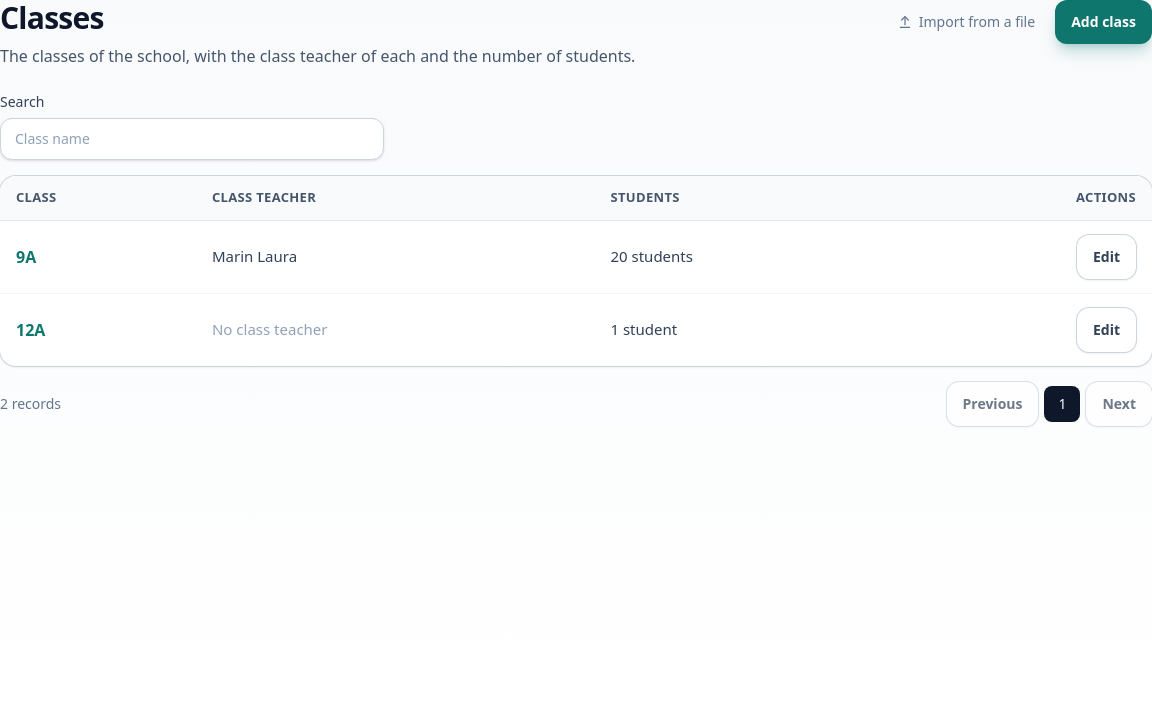
AdminClassesPage › deletes a class after confirmation and says what happens to its students
This screenshot has width=1152, height=720.
Click the button "Edit" in the row of "9A". click: (1106, 256)
box: left=1077, top=234, right=1136, bottom=278
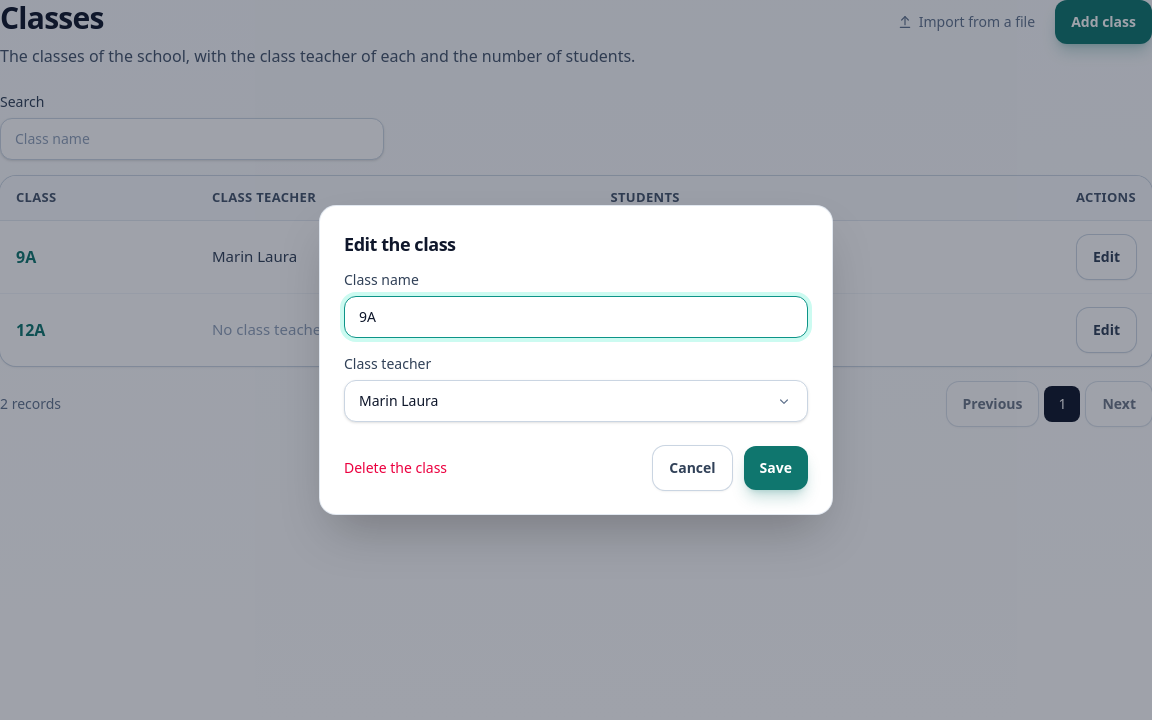
Click the button "Delete the class". click: (396, 468)
box: left=344, top=458, right=447, bottom=478
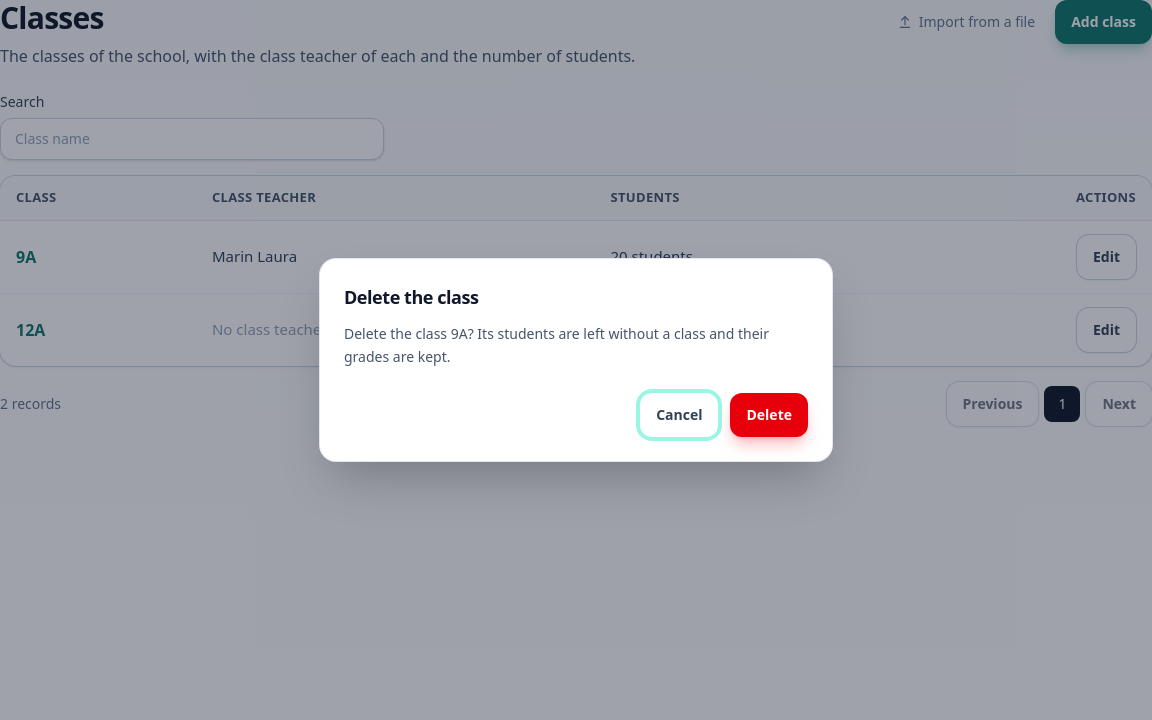
Now the text "left without a class" is shown, box left=344, top=324, right=769, bottom=366
Click the button "Delete". click: (769, 415)
box: left=730, top=393, right=808, bottom=437
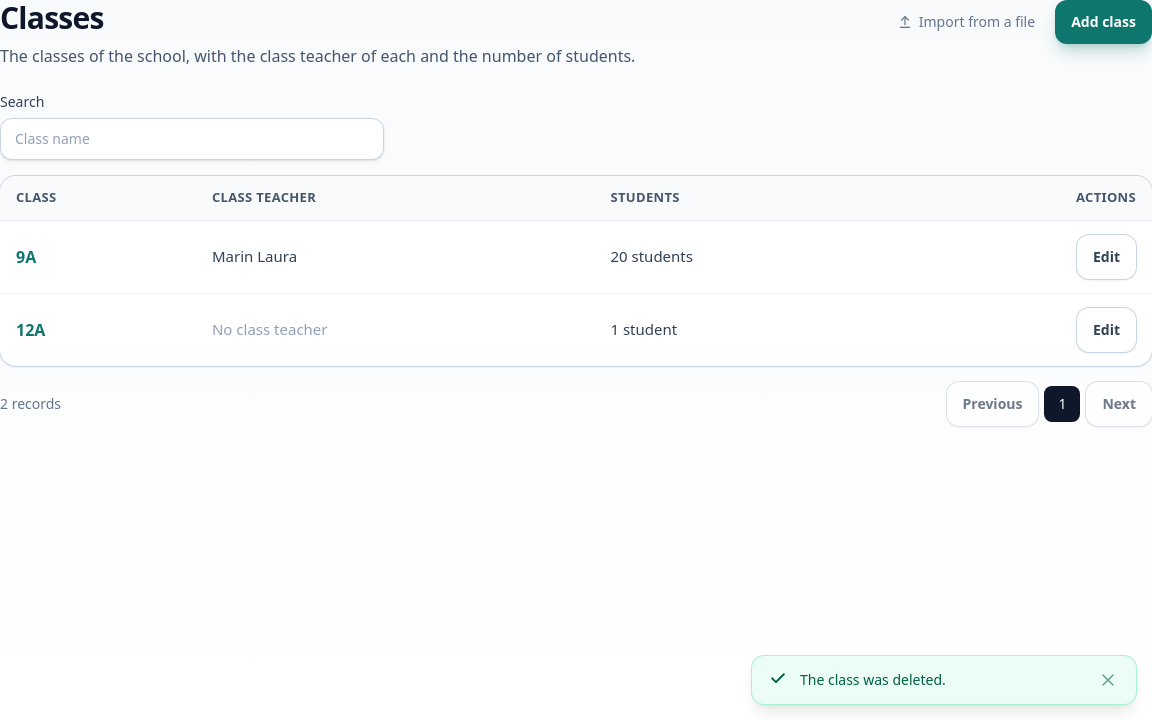
Now the text "The class was deleted." is shown, box left=800, top=670, right=946, bottom=689
